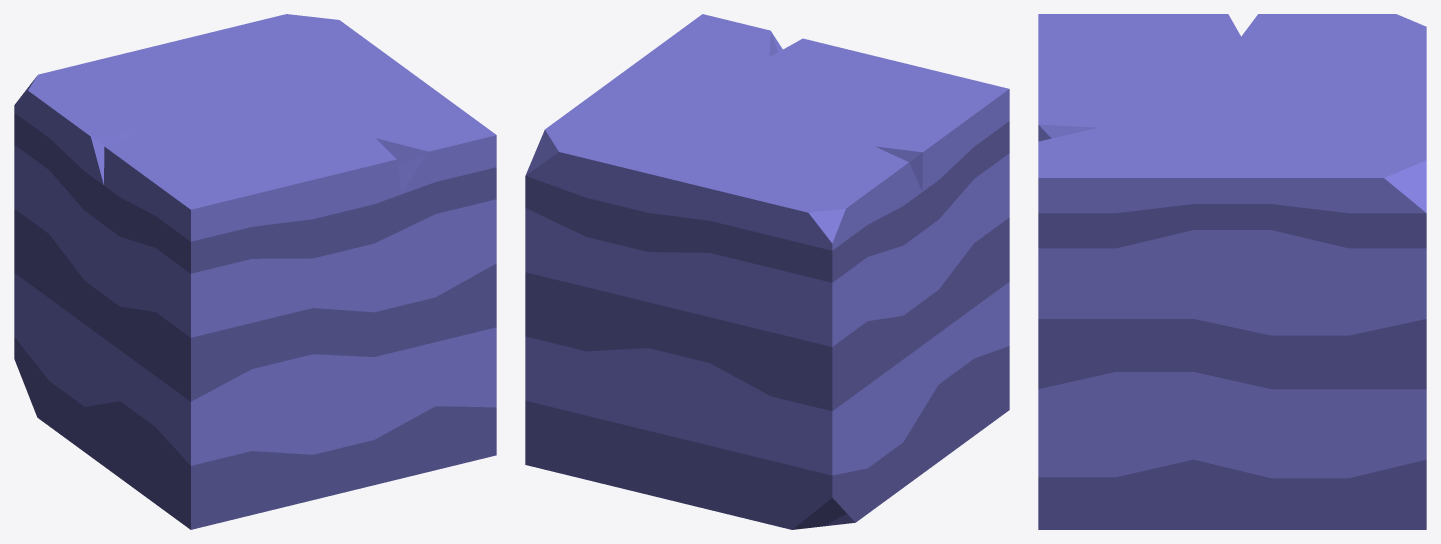
File: Stone009.fbx
3 views of the same model, side by side, from view 1: azimuth 30°, elevation 25°; view 2: azimuth 150°, elevation 25°; view 3: azimuth 270°, elevation 25° (orthographic). The views are drawn at different scales.
Parts seen in each view (by area): view 1: Stone009; view 2: Stone009; view 3: Stone009.
Part boxes in pixels (<box>): Stone009: <box>14,14,496,529</box>; Stone009: <box>525,14,1009,529</box>; Stone009: <box>1038,14,1426,529</box>.
Bounding box in the file's own units: 156 × 156 × 156.
